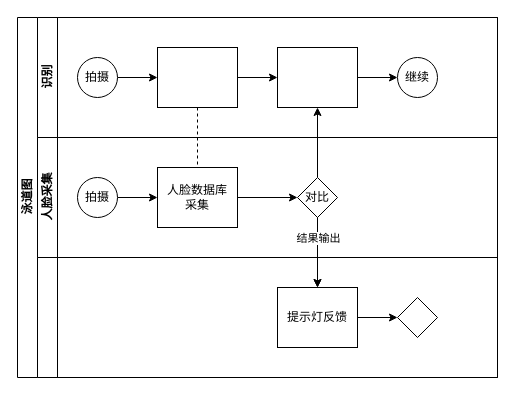
Image size: 515x395. Some labels were removed from this diagram. The box of each missing label's shape, as (x1, y1, x2, y2) in pixels:
LBP 特征计算: (276, 46, 358, 108)
人脸检测: (156, 46, 238, 108)
提示: (36, 256, 498, 378)
用户: (396, 296, 438, 338)
